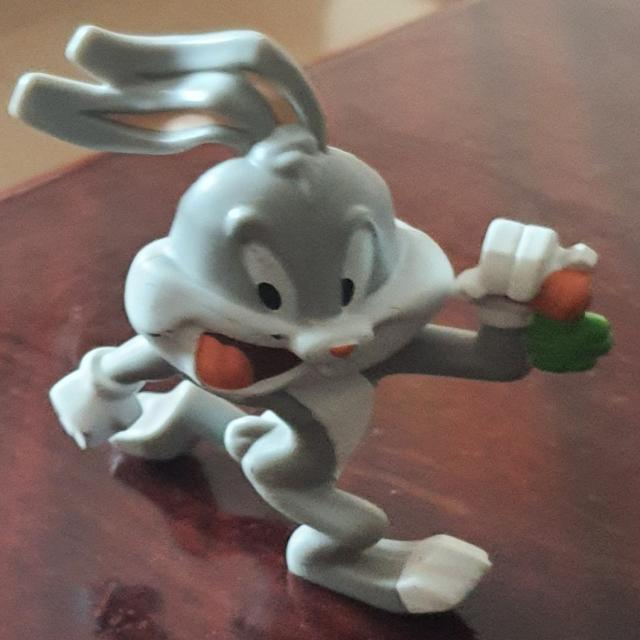Rabbit: (7, 23, 612, 616)
